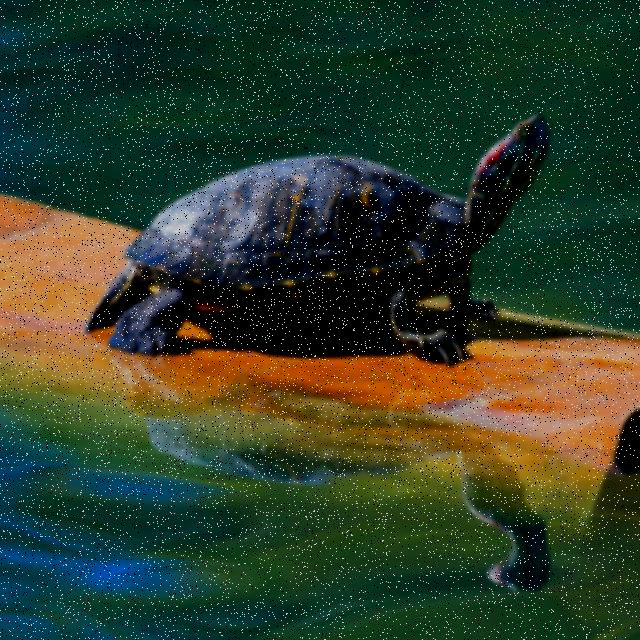tortoise: (79, 100, 561, 380)
